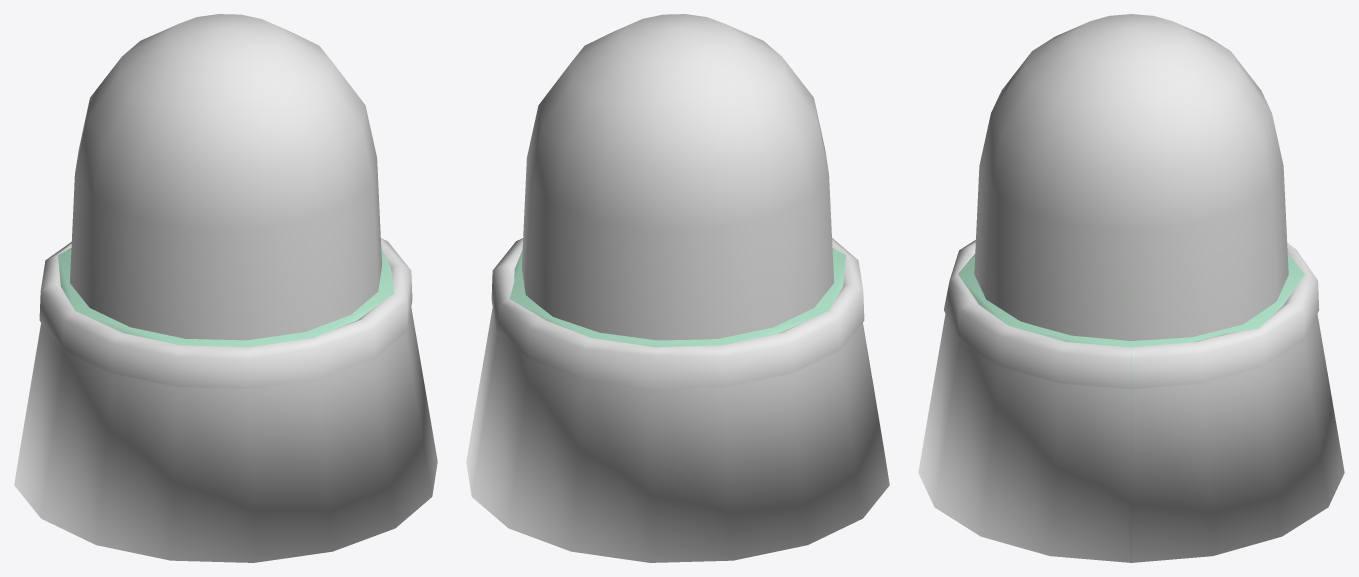
The model's file is LightSingleRotaryBuiltIn.fbx.
The picture shows the model from 3 angles, left to right: view 1: azimuth 30°, elevation 25°; view 2: azimuth 150°, elevation 25°; view 3: azimuth 270°, elevation 25°; orthographic projection.
Visible parts, largest first — view 1: LightSingleRotaryBuiltIn_LOD0, UTM_LightSingleRotaryBuiltInBody; view 2: LightSingleRotaryBuiltIn_LOD0, UTM_LightSingleRotaryBuiltInBody; view 3: LightSingleRotaryBuiltIn_LOD0, UTM_LightSingleRotaryBuiltInBody.
Boxes of the visible parts, bbox=[...] form: LightSingleRotaryBuiltIn_LOD0: bbox=[14, 14, 437, 562]; UTM_LightSingleRotaryBuiltInBody: bbox=[58, 247, 393, 347]; LightSingleRotaryBuiltIn_LOD0: bbox=[466, 14, 889, 562]; UTM_LightSingleRotaryBuiltInBody: bbox=[509, 247, 845, 347]; LightSingleRotaryBuiltIn_LOD0: bbox=[918, 14, 1344, 562]; UTM_LightSingleRotaryBuiltInBody: bbox=[958, 254, 1304, 562].
Size of what is drawn, in the model's own units: 21.02 by 24.19 by 21.02.
